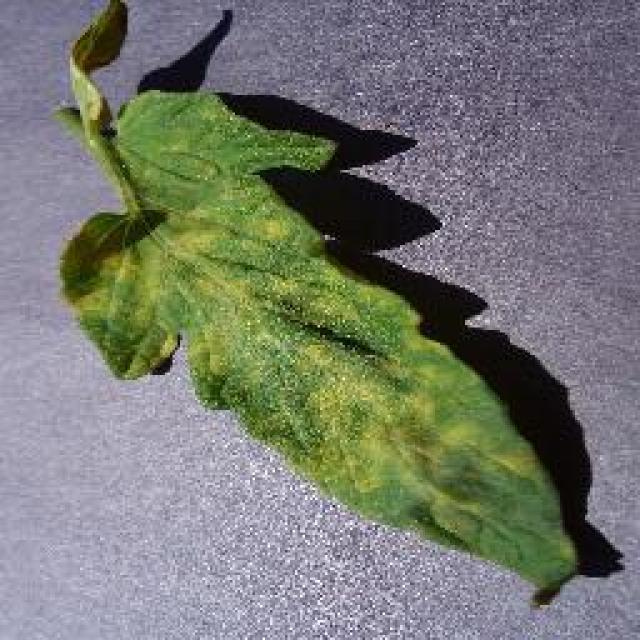Tomato___Leaf_Mold: (58, 0, 575, 605)
